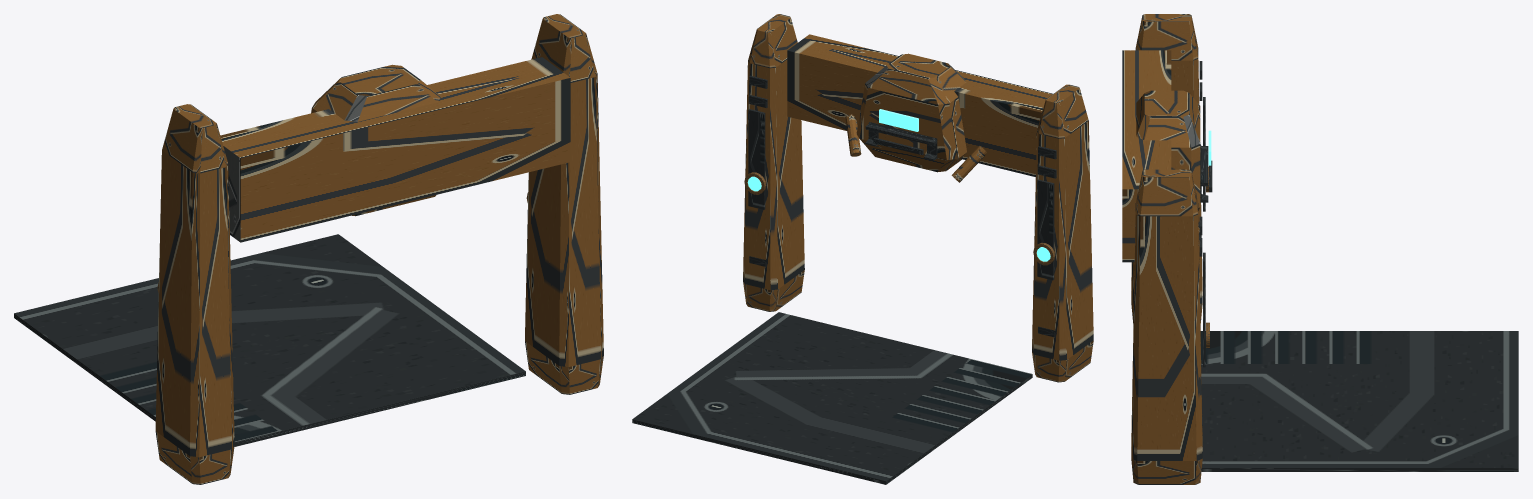
The model's file is station_inventory.glb.
3 views of the same model, side by side, from view 1: azimuth 30°, elevation 25°; view 2: azimuth 150°, elevation 25°; view 3: azimuth 270°, elevation 25° (orthographic). The views are drawn at different scales.
Visible parts, largest first — view 1: STProp_station_inventory_Body; view 2: STProp_station_inventory_Body; view 3: STProp_station_inventory_Body.
Boxes of the visible parts, x1,y1,x2,y2 form: STProp_station_inventory_Body: [14, 14, 603, 484]; STProp_station_inventory_Body: [632, 14, 1093, 484]; STProp_station_inventory_Body: [1122, 14, 1518, 484].
Size of the model in its own units: 3.7 by 3.04 by 3.55.
Materials: 5 (4 with a texture image).
